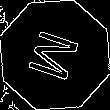M_E: (24, 25, 86, 85)
